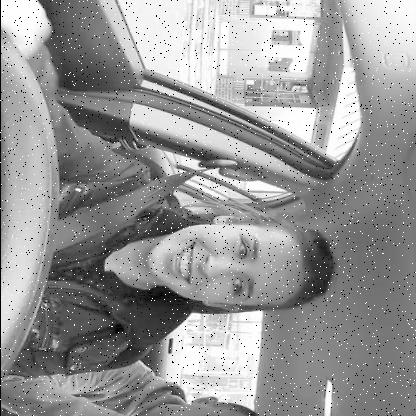seatbelt: (0, 152, 346, 320)
